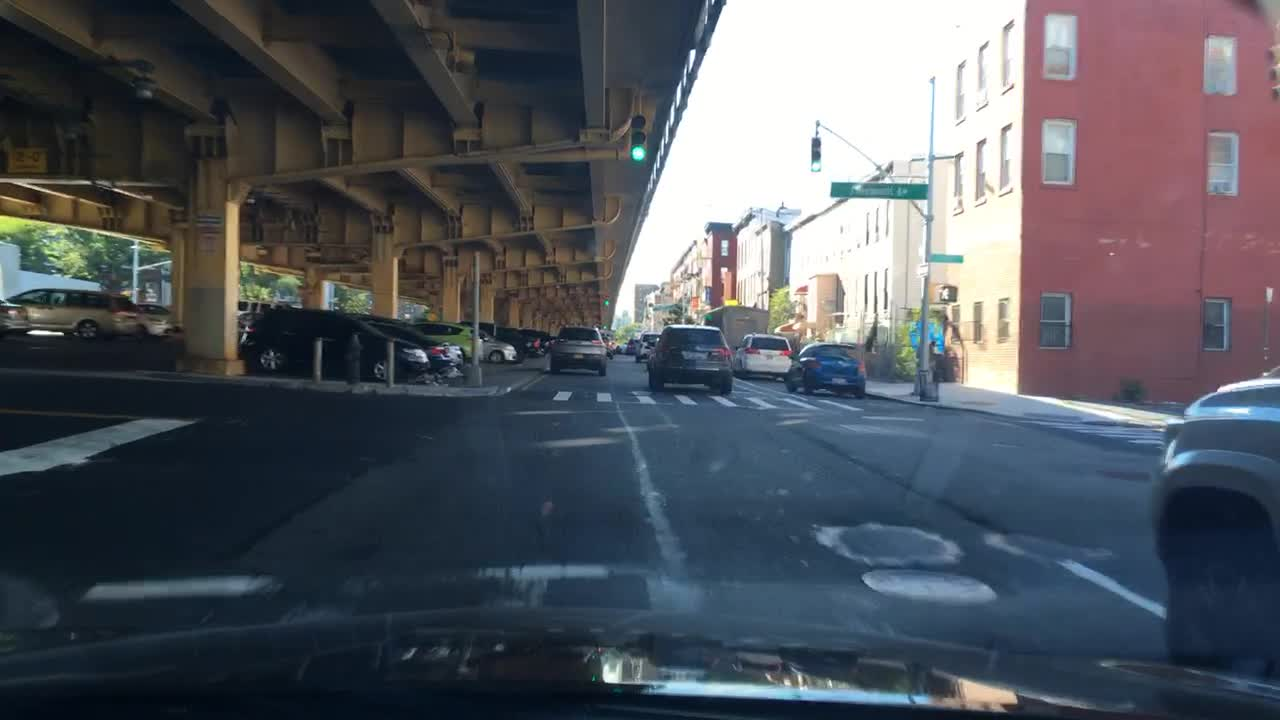car: (1150, 365, 1278, 670), (236, 307, 427, 383), (346, 311, 463, 376), (5, 285, 139, 340), (644, 325, 735, 395), (782, 343, 866, 399), (410, 318, 480, 365), (461, 317, 529, 364), (547, 324, 607, 375), (732, 331, 793, 379), (469, 326, 517, 364), (133, 300, 176, 333), (0, 295, 28, 341), (521, 326, 551, 358), (633, 331, 659, 363), (240, 297, 279, 312), (596, 332, 614, 359), (625, 338, 637, 355), (618, 339, 627, 353), (550, 332, 559, 346), (612, 339, 619, 355)
traffic light: (629, 112, 646, 160), (933, 282, 957, 301), (810, 135, 822, 171), (603, 291, 608, 307), (602, 321, 606, 330)
traffic sign: (829, 180, 929, 199), (924, 252, 961, 264), (912, 261, 926, 277), (724, 299, 739, 304)
